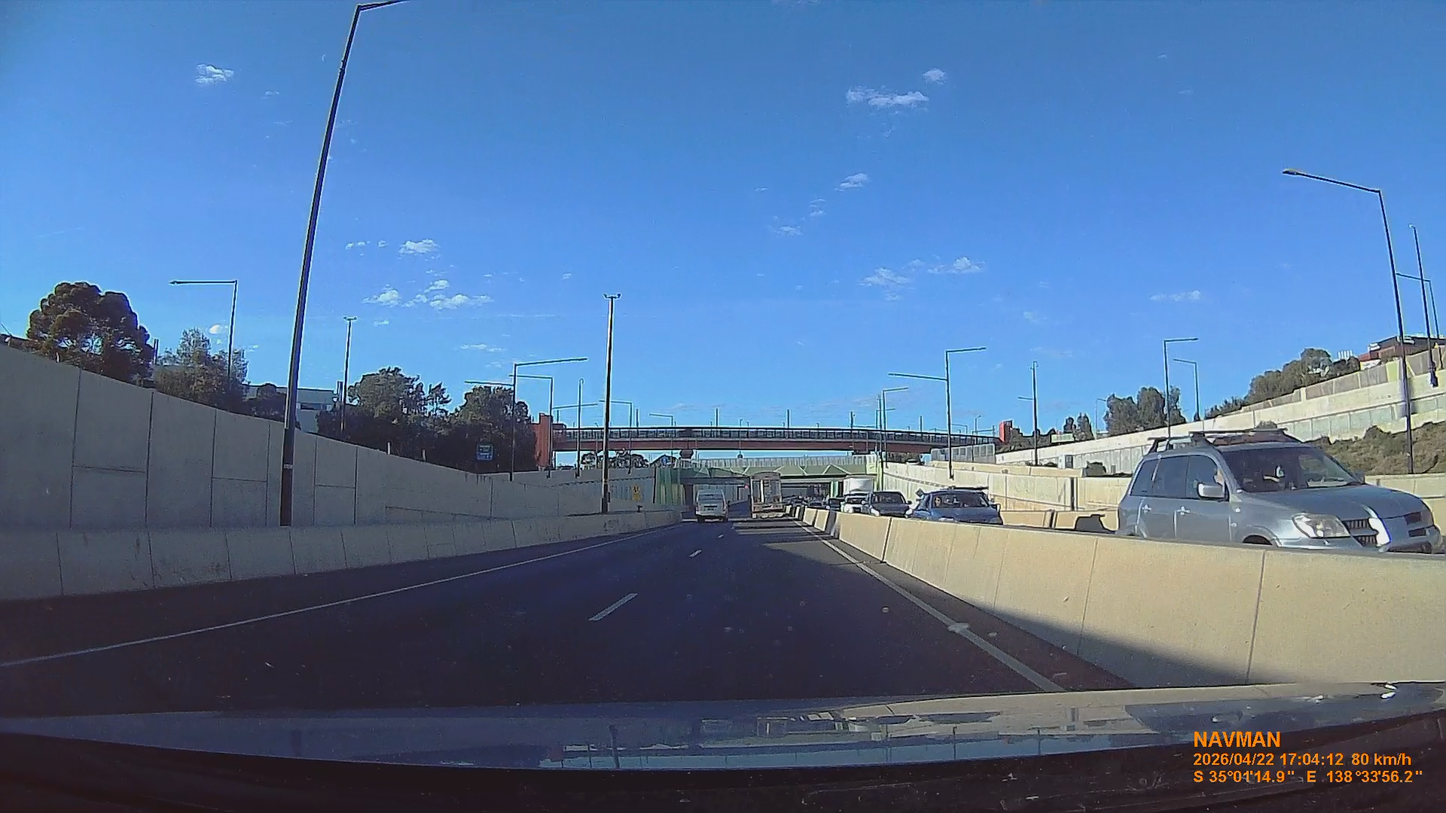road barriers: (838, 516, 1445, 685), (0, 508, 677, 601)
